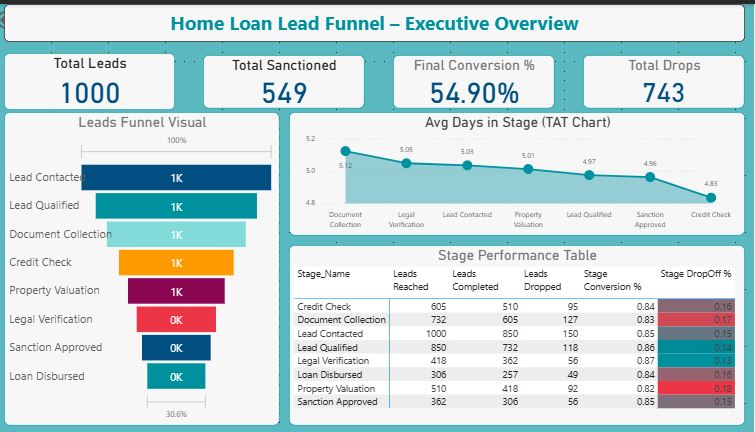

The page's visual inventory and layout, read from the dashboard file:
{"tool":"powerbi","page":{"name":"Overview","canvas":[1280,720],"ordinal":0},"visuals":[{"type":"card","title":"Total Leads","fields":{"Values":["Key_Measures.Total Leads"]},"box":[16,82.1,288,96],"z":0},{"type":"card","title":"Total Sanctioned","fields":{"Values":["Key_Measures.Total Sanctioned"]},"box":[352,85.1,272,90],"z":1000},{"type":"card","title":"Final Conversion %","fields":{"Values":["Key_Measures.Final Conversion %"]},"box":[672,85.1,272,90],"z":2000},{"type":"card","title":"Total Drops","fields":{"Values":["Key_Measures.Total Drops"]},"box":[992,85.1,272,90],"z":3000},{"type":"funnel","title":"Leads Funnel Visual","fields":{"Y":["Key_Measures.Leads Reached"],"Category":["vw_CleanStage.Stage_Name"]},"box":[16,181.9,464,528],"z":4000},{"type":"pivotTable","title":"Stage Performance Table","fields":{"Rows":["vw_CleanStage.Stage_Name"],"Values":["Key_Measures.Leads Reached","Key_Measures.Leads Completed","Key_Measures.Leads Dropped","Key_Measures.Stage Conversion %","Key_Measures.Stage DropOff %"]},"box":[496,405.9,768,304],"z":5000},{"type":"actionButton","box":[0,5.9,100,40],"z":6000},{"type":"areaChart","title":"Avg Days in Stage (TAT Chart)","fields":{"Category":["Stage_TimeAnalysis.Stage_Name"],"Y":["Key_Measures.Avg Days in Stage"]},"box":[496,181.9,768,208],"z":7000},{"type":"textbox","box":[16,0,1248,64],"z":8000}]}

Visuals, with their boxes in screenshot pixels (x1, y1, x2, y2), scaled from the page's 1280x720 canvas onto the 755x432 screenshot:
"Total Leads" card: Rect(9, 49, 179, 107)
"Total Sanctioned" card: Rect(208, 51, 368, 105)
"Final Conversion %" card: Rect(396, 51, 557, 105)
"Total Drops" card: Rect(585, 51, 746, 105)
"Leads Funnel Visual" funnel: Rect(9, 109, 283, 426)
"Stage Performance Table" pivotTable: Rect(293, 244, 746, 426)
actionButton: Rect(0, 4, 59, 28)
"Avg Days in Stage (TAT Chart)" areaChart: Rect(293, 109, 746, 234)
textbox: Rect(9, 0, 746, 38)
